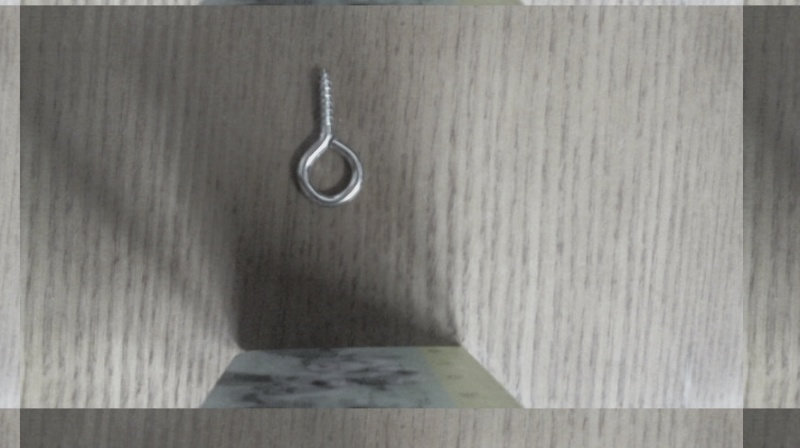O001: (293, 67, 366, 208)
